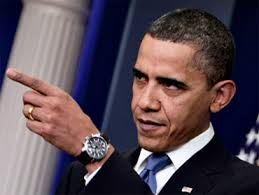hand: (3, 55, 107, 166)
